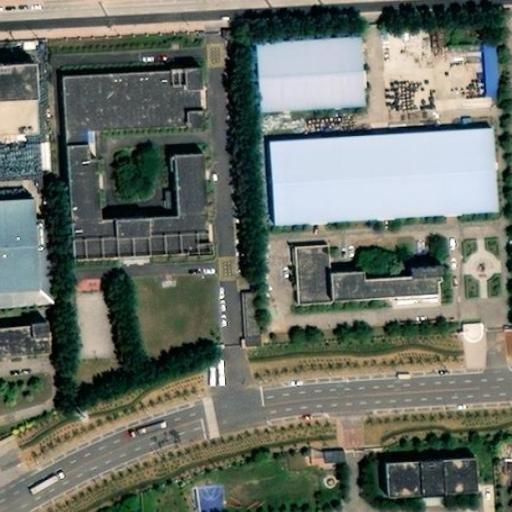building: (269, 148, 499, 240), (64, 94, 209, 169), (261, 58, 363, 132), (70, 241, 210, 294), (378, 453, 475, 497), (0, 226, 43, 322), (338, 275, 448, 307), (67, 168, 103, 247), (301, 258, 335, 322), (176, 178, 208, 243), (0, 350, 49, 382), (0, 101, 40, 136), (237, 285, 260, 343), (304, 444, 345, 464), (442, 37, 481, 57), (485, 57, 500, 107), (457, 317, 482, 337)
